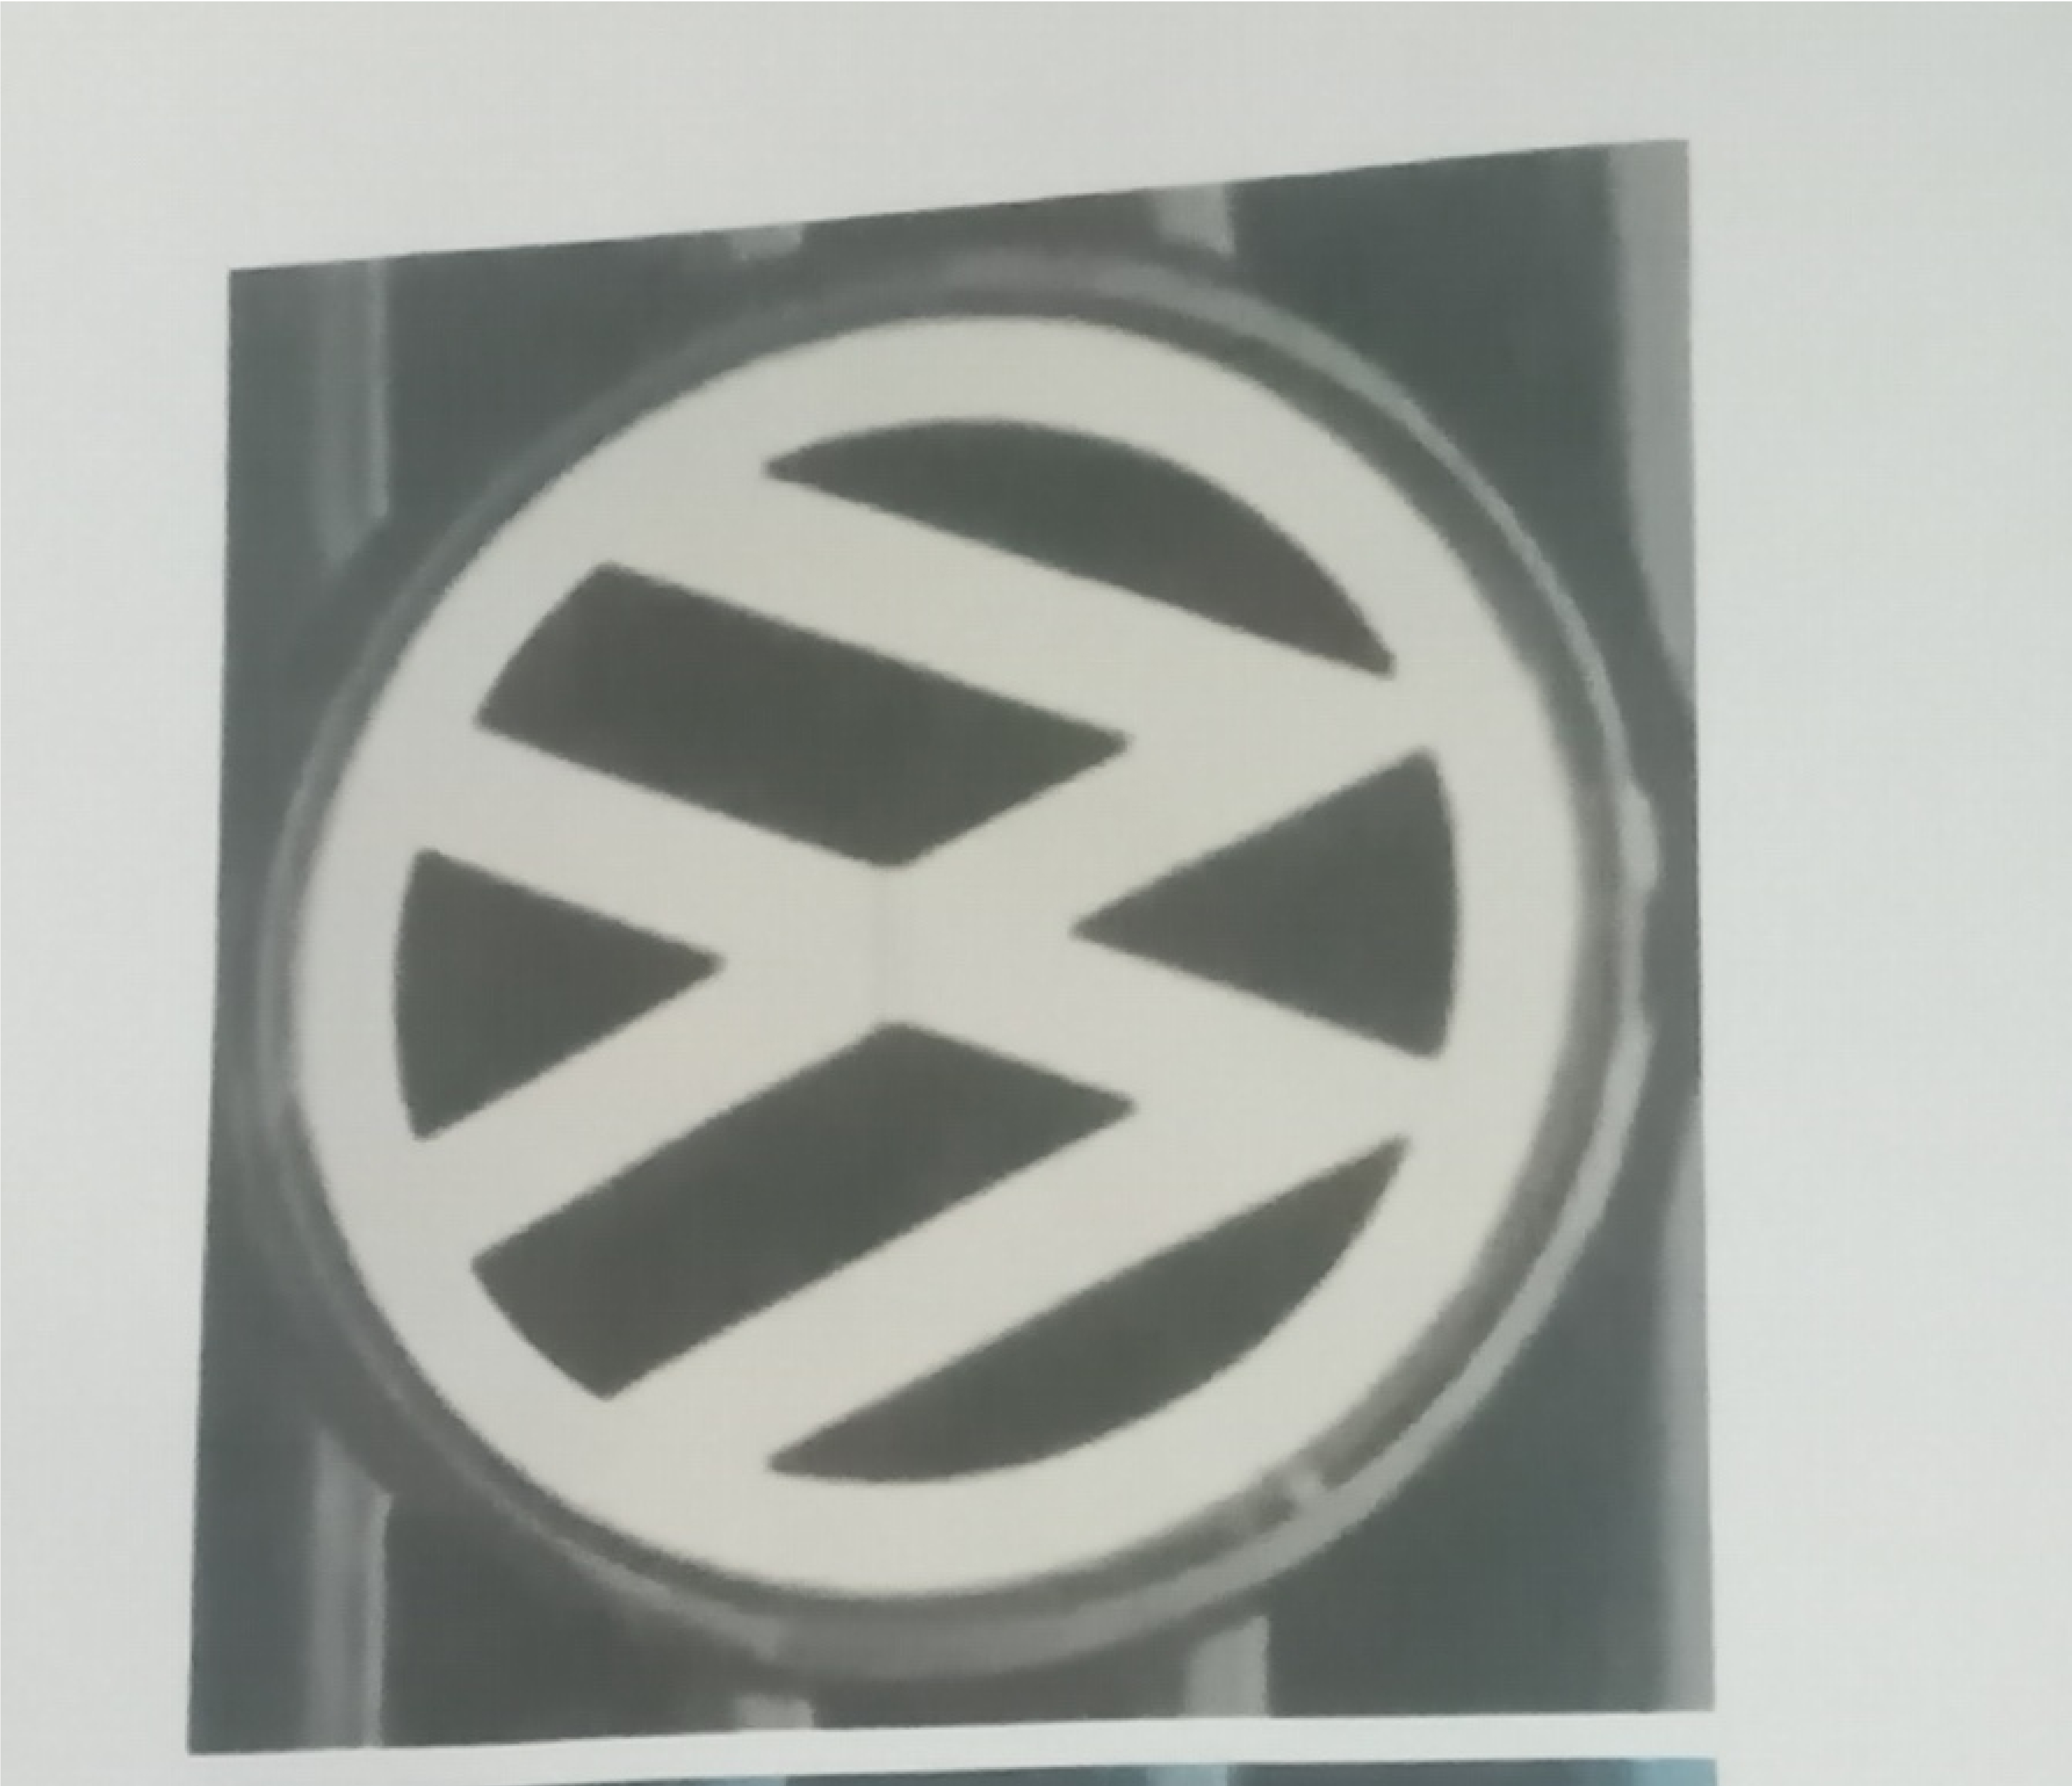Volkswagen: (226, 210, 1679, 1721)
